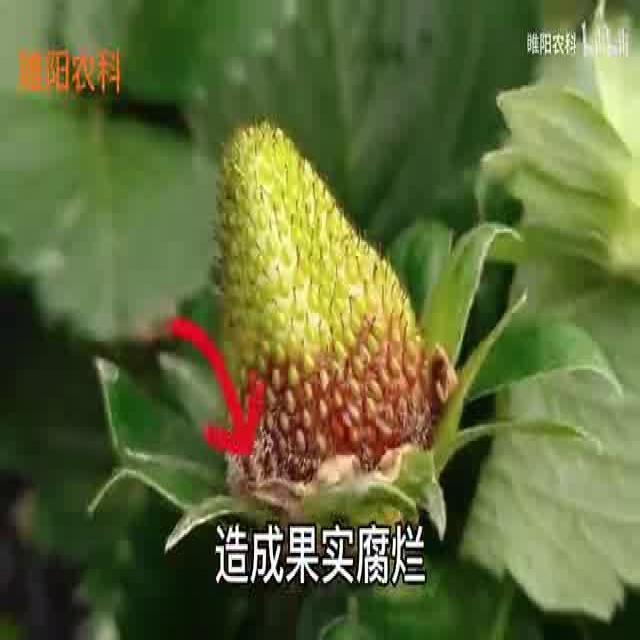Moho gris: (213, 118, 444, 526)
